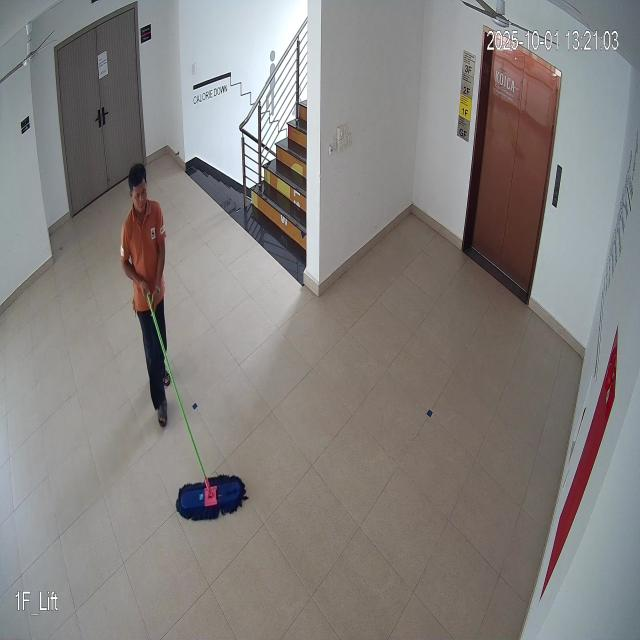face: (125, 156, 153, 223)
